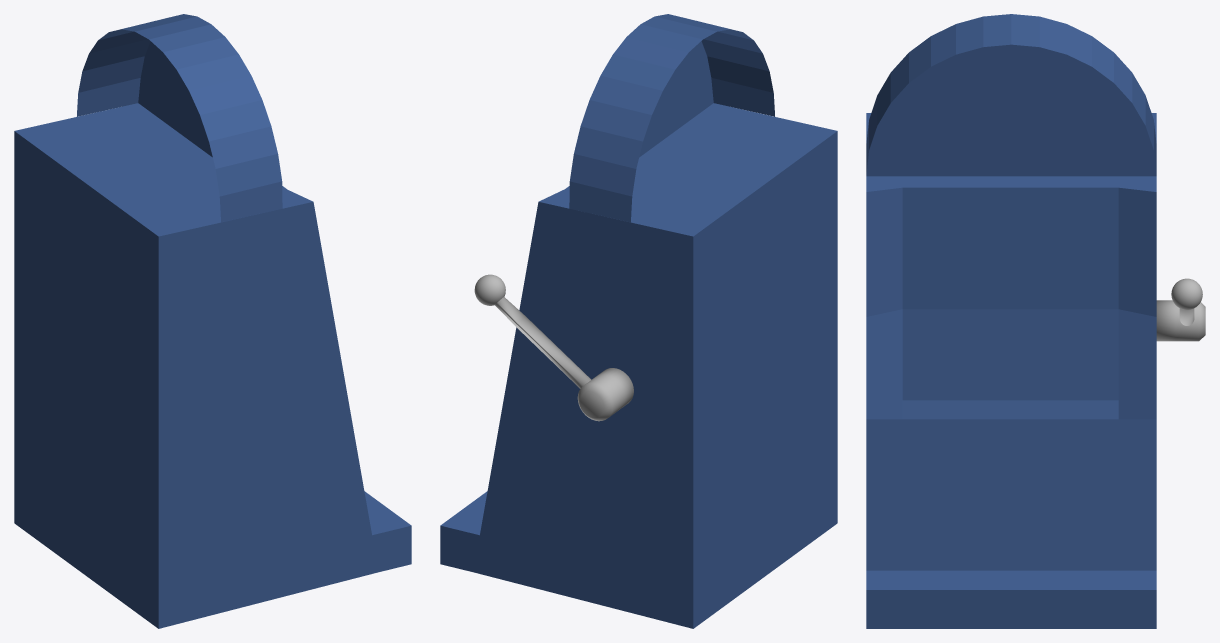
The model's file is Slot1.glb.
3 renders of one model, left to right at view 1: azimuth 30°, elevation 25°; view 2: azimuth 150°, elevation 25°; view 3: azimuth 270°, elevation 25°, orthographic.
Visible parts, largest first — view 1: Cube; view 2: Cube, Cylinder; view 3: Cube, Cylinder.
Part boxes in pixels (bbox=[...]): Cube: bbox=[14, 14, 411, 628]; Cube: bbox=[440, 14, 837, 628]; Cylinder: bbox=[474, 274, 633, 421]; Cube: bbox=[866, 14, 1156, 628]; Cylinder: bbox=[1156, 278, 1205, 341].
Bounding box in the file's own units: 2.02 × 3.99 × 2.34.
